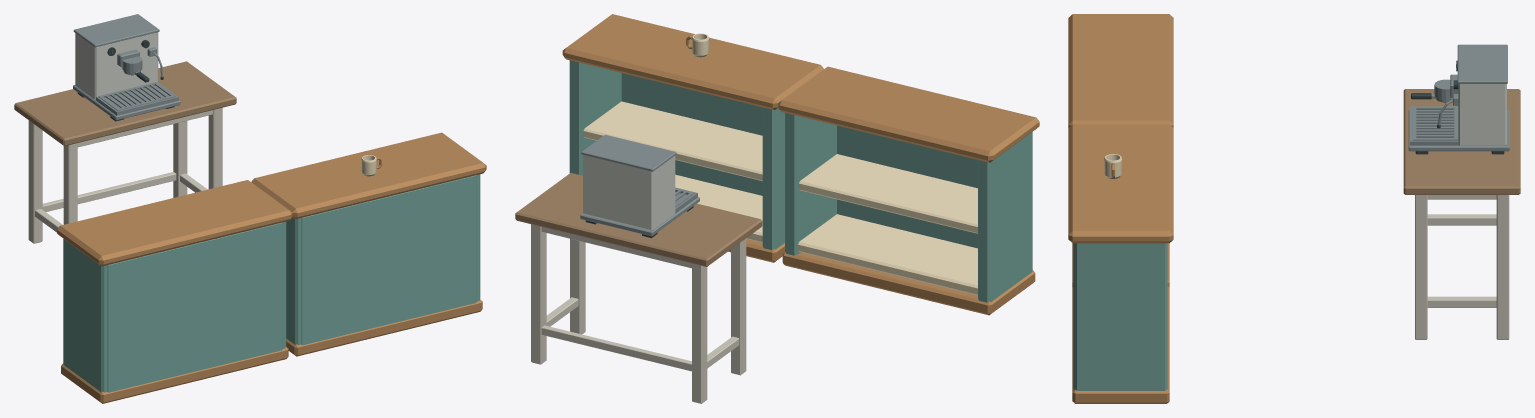
3 views of the same model, side by side, from view 1: azimuth 30°, elevation 25°; view 2: azimuth 150°, elevation 25°; view 3: azimuth 270°, elevation 25° (orthographic). The views are drawn at different scales.
Parts seen in each view (by area): view 1: order_counter__dining-service-counter-01, pickup_counter__dining-service-counter-01, staff_worktable__Complete work surface, complete_static_espresso_machine__Main appliance body, staff_worktable__Worktable leg.001, complete_static_espresso_machine__Top cap, staff_worktable__Rear lower brace, staff_worktable__Worktable leg, staff_worktable__Worktable leg.002, complete_static_espresso_machine__Real slotted cup grate, staff_worktable__Worktable leg.003, complete_static_espresso_machine__Thick drip tray well (+2 smaller); view 2: order_counter__dining-service-counter-01, pickup_counter__dining-service-counter-01, staff_worktable__Complete work surface, complete_static_espresso_machine__Main appliance body, staff_worktable__Worktable leg.001, staff_worktable__Worktable leg.003, staff_worktable__Worktable leg, complete_static_espresso_machine__Top cap, staff_worktable__Rear lower brace, staff_worktable__Worktable leg.002, staff_worktable__Upper long apron.001, complete_static_espresso_machine__Continuous lower chassis; view 3: pickup_counter__dining-service-counter-01, order_counter__dining-service-counter-01, staff_worktable__Complete work surface, complete_static_espresso_machine__Main appliance body, complete_static_espresso_machine__Top cap, staff_worktable__Worktable leg.003, staff_worktable__Worktable leg.002, complete_static_espresso_machine__Real slotted cup grate, complete_static_espresso_machine__Continuous lower chassis, staff_worktable__Side lower stretcher, staff_worktable__Side lower stretcher.001, complete_static_espresso_machine__Thick drip tray well (+1 smaller).
Part boxes in pixels (left/top/right/bottom): order_counter__dining-service-counter-01: left=57, top=180, right=292, bottom=403; pickup_counter__dining-service-counter-01: left=251, top=132, right=486, bottom=356; staff_worktable__Complete work surface: left=14, top=61, right=236, bottom=146; complete_static_espresso_machine__Main appliance body: left=75, top=32, right=158, bottom=100; staff_worktable__Worktable leg.001: left=28, top=120, right=42, bottom=243; complete_static_espresso_machine__Top cap: left=73, top=14, right=159, bottom=47; staff_worktable__Rear lower brace: left=42, top=172, right=176, bottom=211; staff_worktable__Worktable leg: left=63, top=143, right=77, bottom=224; staff_worktable__Worktable leg.002: left=208, top=107, right=222, bottom=189; complete_static_espresso_machine__Real slotted cup grate: left=98, top=82, right=175, bottom=110; staff_worktable__Worktable leg.003: left=173, top=121, right=187, bottom=197; complete_static_espresso_machine__Thick drip tray well: left=96, top=82, right=178, bottom=115; order_counter__dining-service-counter-01: left=778, top=66, right=1039, bottom=315; pickup_counter__dining-service-counter-01: left=562, top=14, right=823, bottom=262; staff_worktable__Complete work surface: left=515, top=173, right=762, bottom=266; complete_static_espresso_machine__Main appliance body: left=583, top=155, right=675, bottom=230; staff_worktable__Worktable leg.001: left=692, top=263, right=707, bottom=403; staff_worktable__Worktable leg.003: left=531, top=224, right=546, bottom=364; staff_worktable__Worktable leg: left=731, top=238, right=746, bottom=375; complete_static_espresso_machine__Top cap: left=581, top=134, right=676, bottom=171; staff_worktable__Rear lower brace: left=541, top=325, right=691, bottom=371; staff_worktable__Worktable leg.002: left=570, top=239, right=585, bottom=334; staff_worktable__Upper long apron.001: left=541, top=227, right=691, bottom=268; complete_static_espresso_machine__Continuous lower chassis: left=580, top=197, right=699, bottom=236; pickup_counter__dining-service-counter-01: left=1068, top=124, right=1173, bottom=403; order_counter__dining-service-counter-01: left=1068, top=14, right=1173, bottom=287; staff_worktable__Complete work surface: left=1403, top=89, right=1520, bottom=194; complete_static_espresso_machine__Main appliance body: left=1458, top=84, right=1506, bottom=145; complete_static_espresso_machine__Top cap: left=1457, top=44, right=1507, bottom=83; staff_worktable__Worktable leg.003: left=1496, top=195, right=1509, bottom=339; staff_worktable__Worktable leg.002: left=1415, top=195, right=1427, bottom=339; complete_static_espresso_machine__Real slotted cup grate: left=1412, top=106, right=1457, bottom=140; complete_static_espresso_machine__Continuous lower chassis: left=1408, top=110, right=1509, bottom=151; staff_worktable__Side lower stretcher: left=1427, top=214, right=1496, bottom=225; staff_worktable__Side lower stretcher.001: left=1427, top=296, right=1496, bottom=307; complete_static_espresso_machine__Thick drip tray well: left=1410, top=106, right=1458, bottom=145.
Size of the model in its own units: 2.68 by 1.32 by 2.32.
